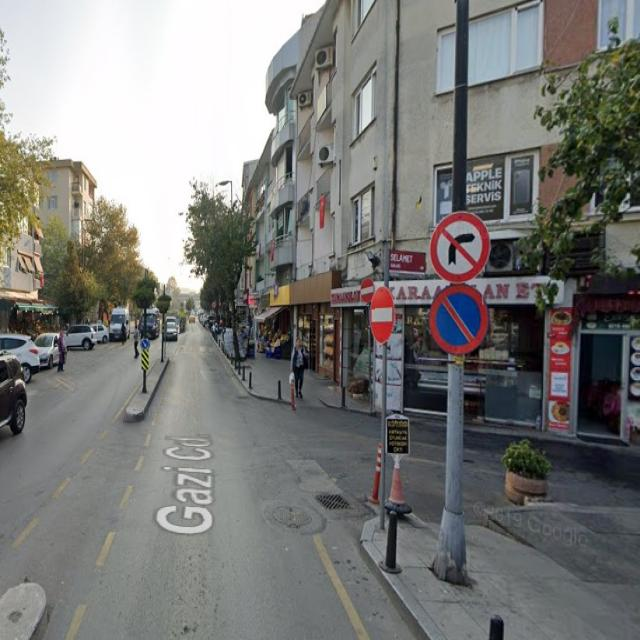girisyok: (370, 287, 394, 345), (360, 279, 374, 302)
parkyasak: (429, 285, 489, 355)
sagadonulmez: (429, 210, 491, 282)
